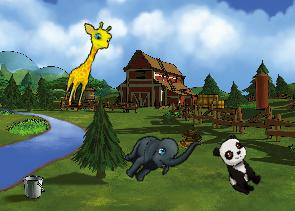elephant: (116, 111, 202, 200)
giraffe: (61, 17, 115, 112)
panda: (209, 132, 267, 199)
